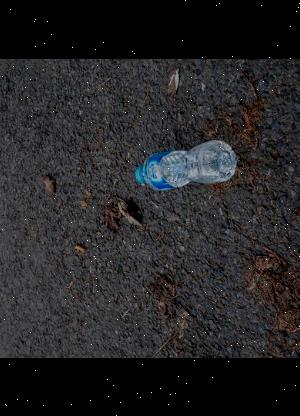Plastic Bottle: (134, 137, 236, 189)
